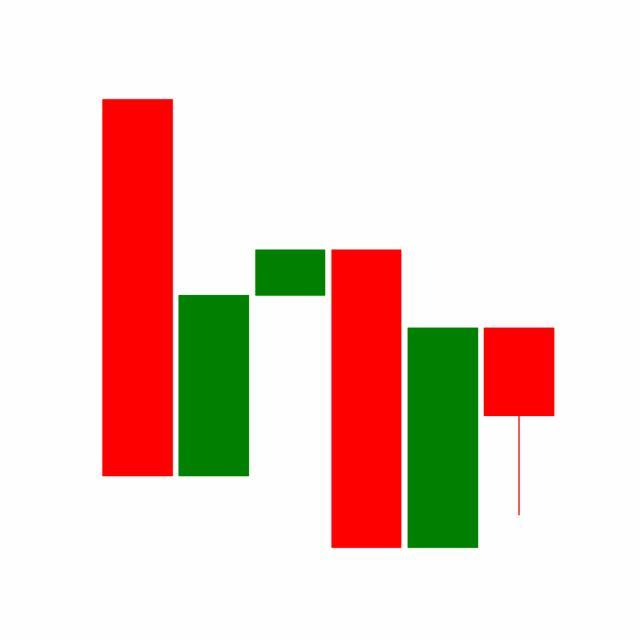Marubozu: (404, 325, 482, 551)
